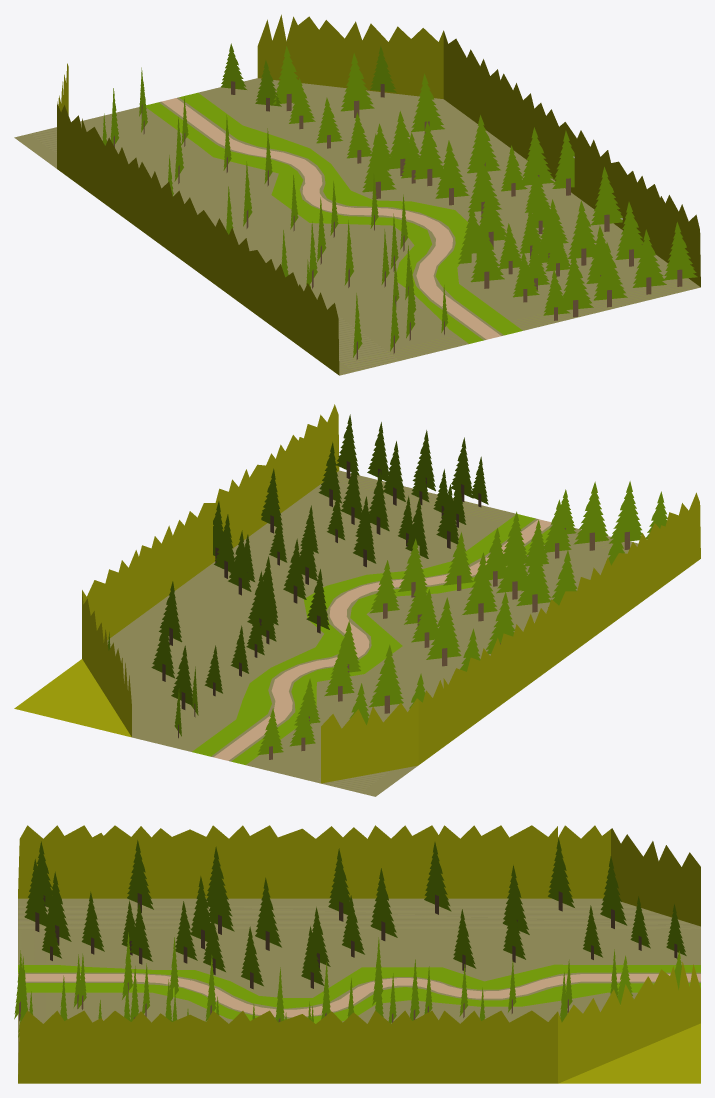
File: forest01.glb
3 renders of one model, top to bottom at view 1: azimuth 30°, elevation 25°; view 2: azimuth 150°, elevation 25°; view 3: azimuth 270°, elevation 25°, orthographic. The views are drawn at different scales.
Parts seen in each view (by area): view 1: Geom3D (×5); view 2: Geom3D (×5); view 3: Geom3D (×5).
Part boxes in pixels (box(x1,y1,x2,y2)): Geom3D (×5): box(14, 14, 700, 375); Geom3D (×5): box(14, 404, 700, 796); Geom3D (×5): box(14, 825, 700, 1083).
Bounding box in the file's own units: 1918707 × 363975 × 3003595.
Materials: 8 (4 with a texture image).
